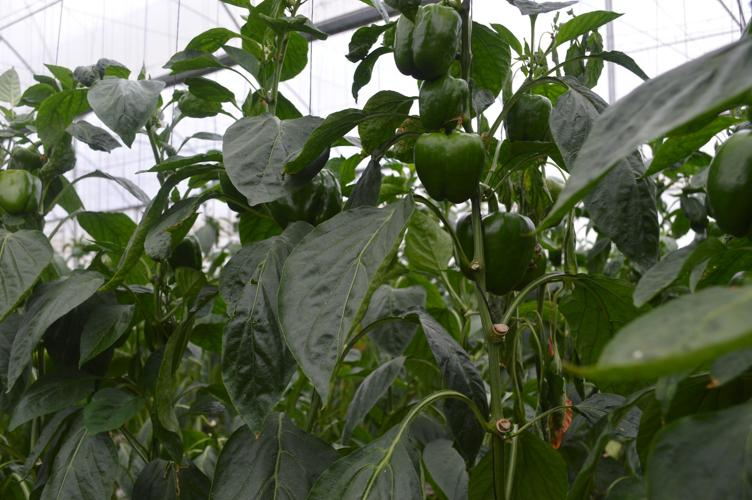BellPepper: (453, 210, 537, 291), (410, 130, 485, 204), (385, 4, 459, 76), (696, 130, 742, 239), (266, 169, 341, 232), (413, 76, 470, 129), (504, 94, 551, 144), (7, 165, 44, 215)
